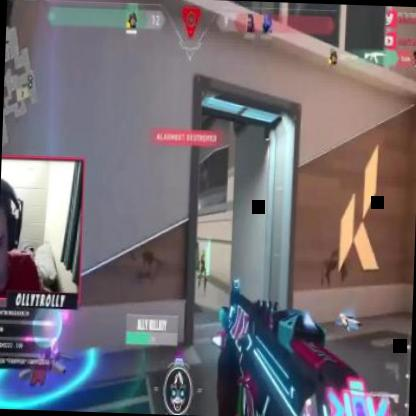enemy: (198, 248, 208, 296)
enemy_head: (202, 249, 206, 256)
